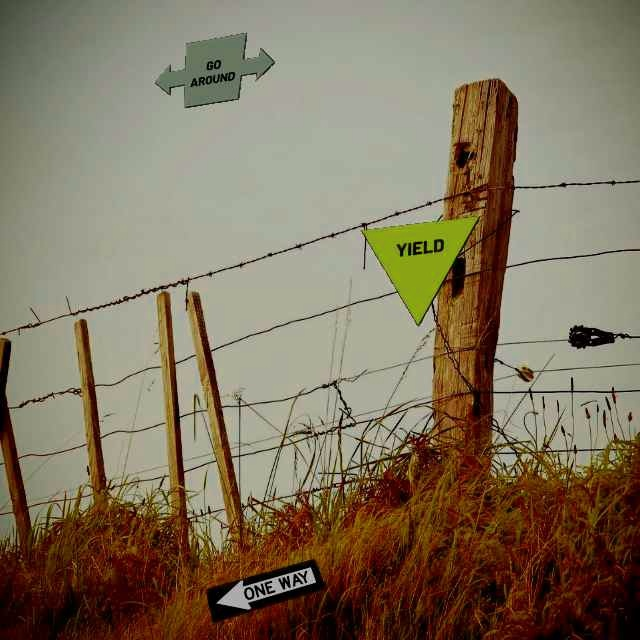GO_AROUND: (154, 32, 275, 108)
ONE_WAY_ left: (205, 558, 326, 623)
YIELD: (360, 215, 481, 327)
